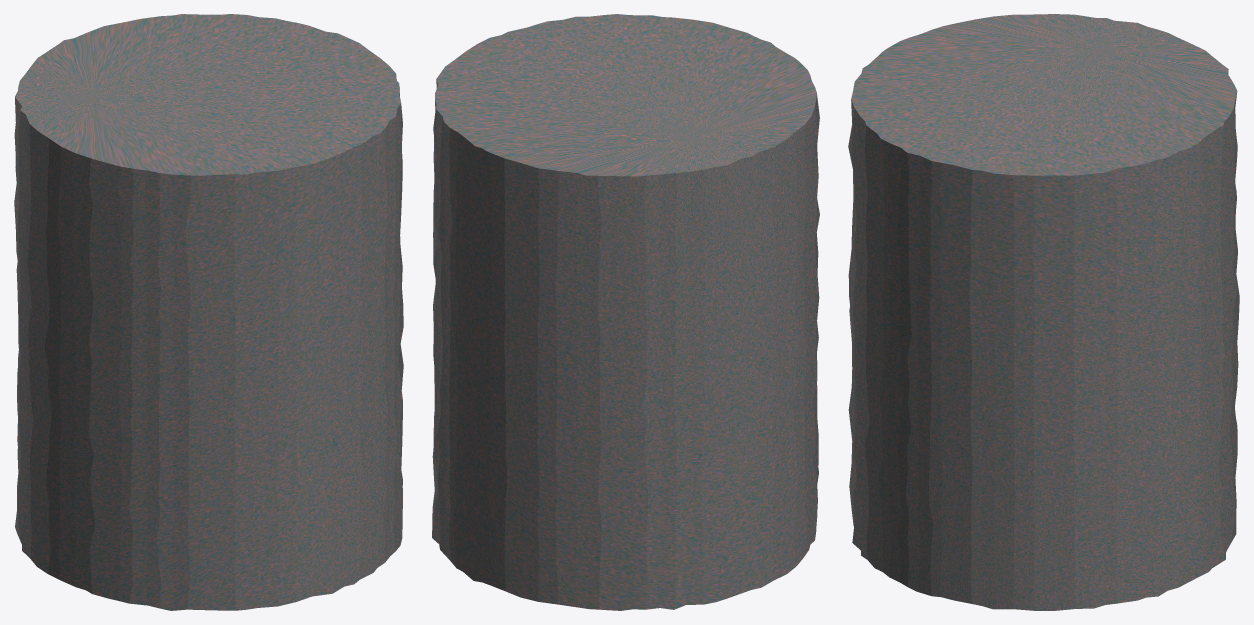
File: barrel_44.dae
The picture shows the model from 3 angles, left to right: view 1: azimuth 30°, elevation 25°; view 2: azimuth 150°, elevation 25°; view 3: azimuth 270°, elevation 25°; orthographic projection.
Visible parts, largest first — view 1: Cylinder; view 2: Cylinder; view 3: Cylinder.
Part boxes in pixels (<box>): Cylinder: <box>14,14,403,610</box>; Cylinder: <box>432,14,819,610</box>; Cylinder: <box>848,14,1239,610</box>.
Bounding box in the file's own units: 0.8174 × 0.8162 × 1.
Materials: 1 (1 with a texture image).
